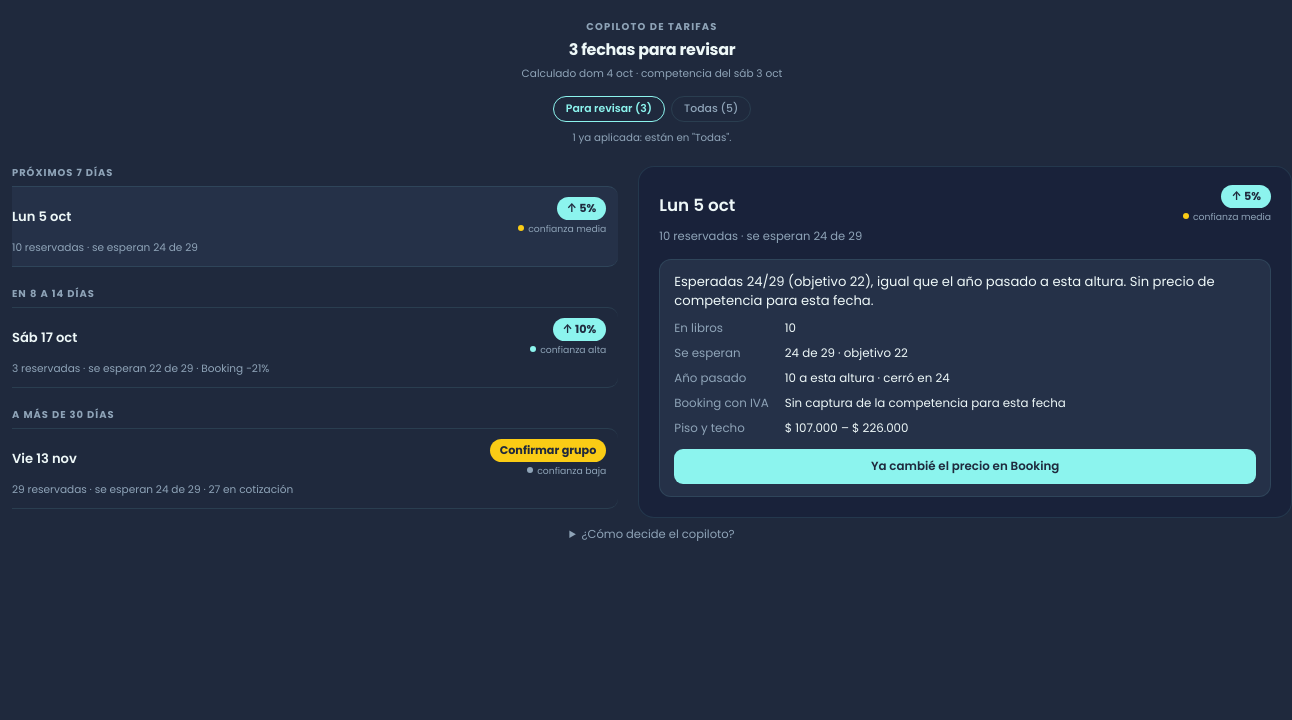
it: en el computador el detalle va en un panel al lado de la lista
Expected: the button "Ya cambié el precio en Booking" is shown, [674,449,1256,484]
Click the button "Sáb 17 oct ↑ 10% confianza alta". click: point(45, 337)
box: [12,318,606,357]
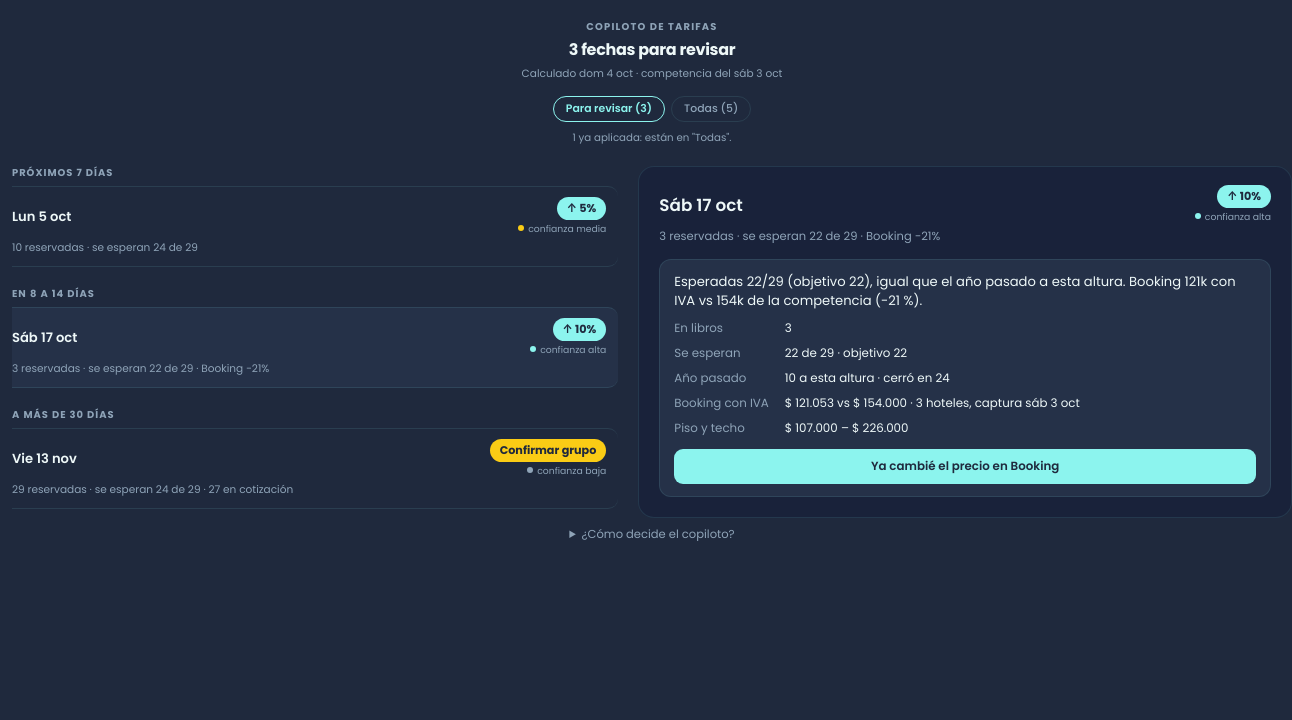
Now the text "Booking 121k con IVA vs 154k" is shown, box [674,272,1236,310]
